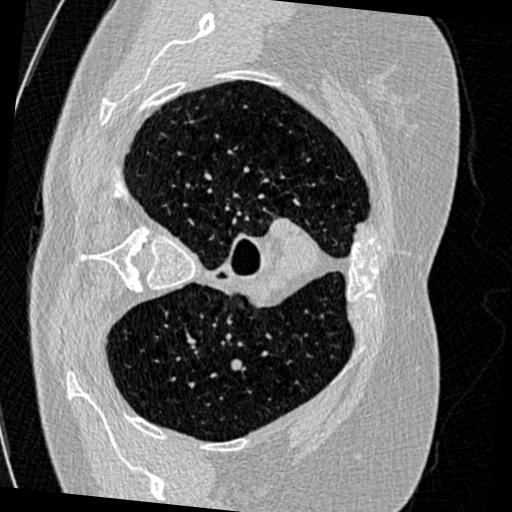nodule: (229, 356, 247, 374)
